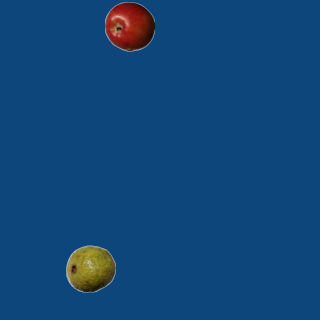Apple Braeburn: (104, 1, 154, 51)
Guava: (65, 243, 115, 293)
